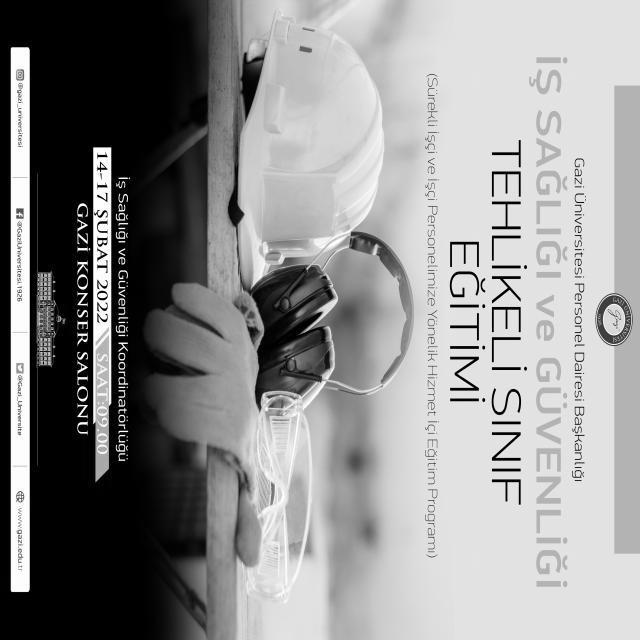safety_helmet: (230, 11, 382, 287)
